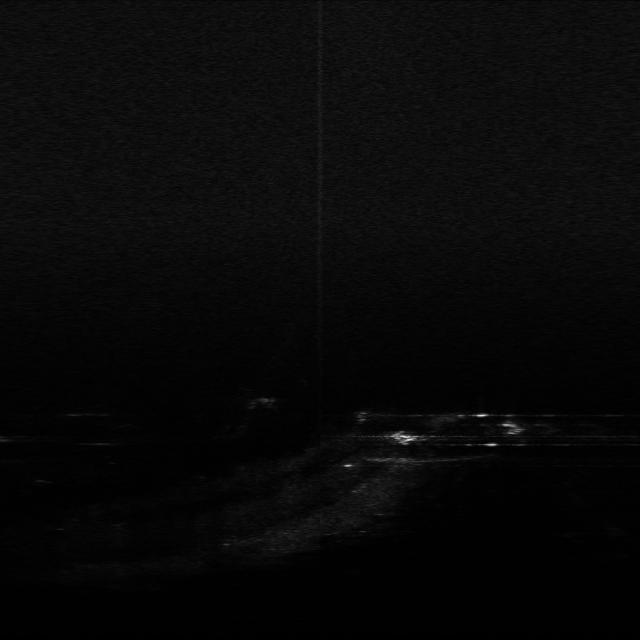rov: (390, 428, 424, 446)
